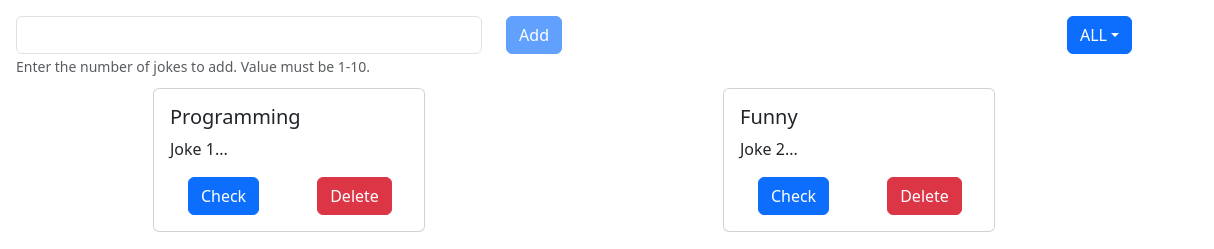
Test case: Test filter › should filter jokes when filter is not "ALL"
The image size is (1214, 249).
Click the button "ALL" at (1099, 35), box [1067,16,1132,54]
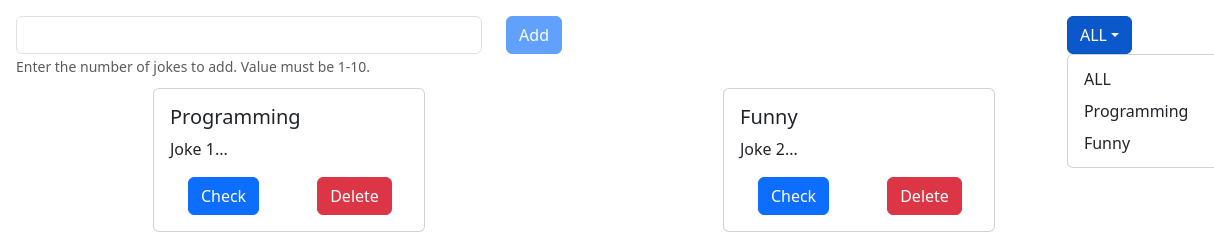
Click the button with test id "Programming" at (1136, 111), box [1084,100,1188,122]
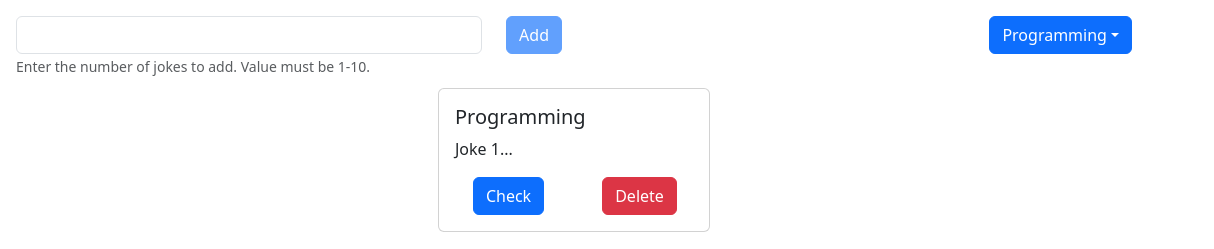
Expected: the text "Joke 2..." is gone
